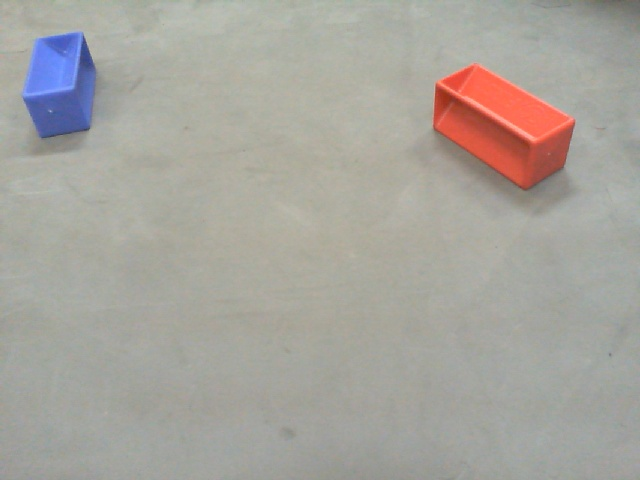BlueSample: (21, 30, 93, 142)
RedSample: (429, 61, 579, 195)
